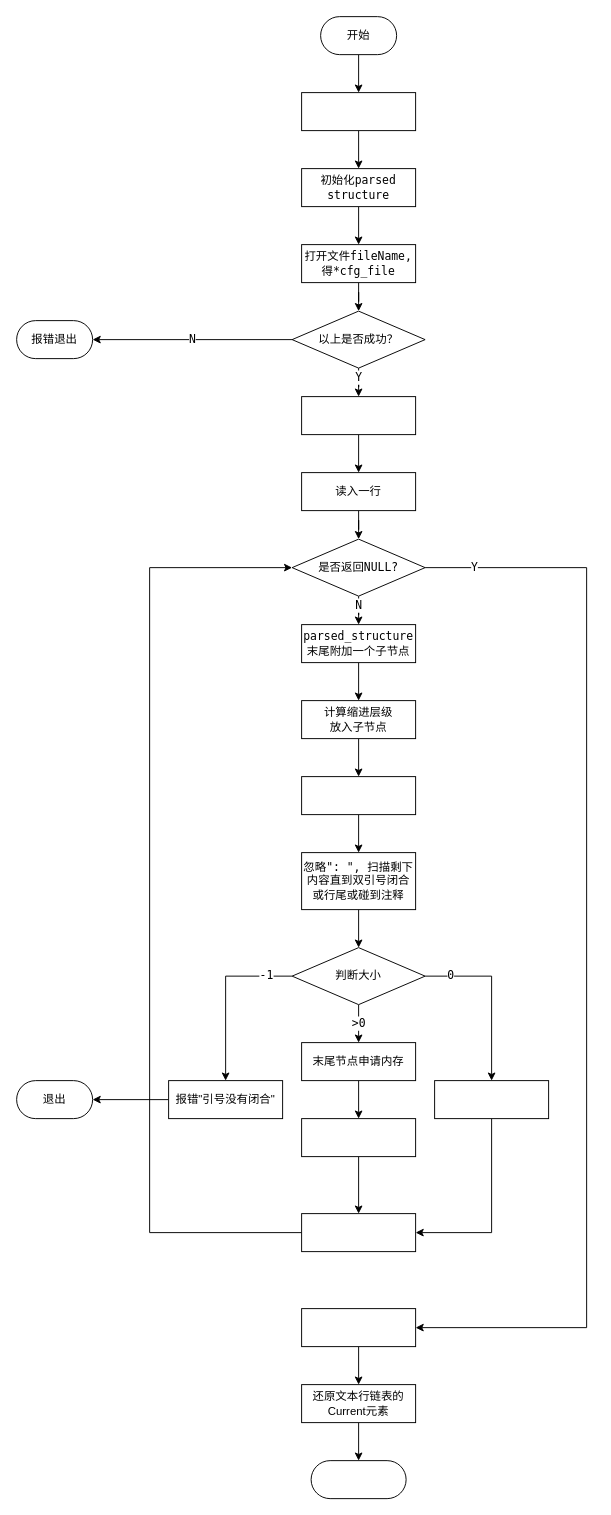
This 611x1515 diagram has some shape labels left out. The box of each missing label's shape, as (x1, y1, x2, y2) in pixels:
copy末尾节点: (301, 1118, 416, 1157)
初始化行缓冲区 char *buffer: (301, 396, 416, 435)
指针移动到尾节点: (301, 1213, 416, 1252)
接收参数fileName: (301, 92, 416, 131)
最后一个节点接地: (301, 1308, 416, 1347)
末尾节点.value = NULL: (434, 1080, 549, 1119)
读取一行直到":" 放入末尾节点.name: (301, 776, 416, 815)
返回链表: (310, 1460, 406, 1499)
